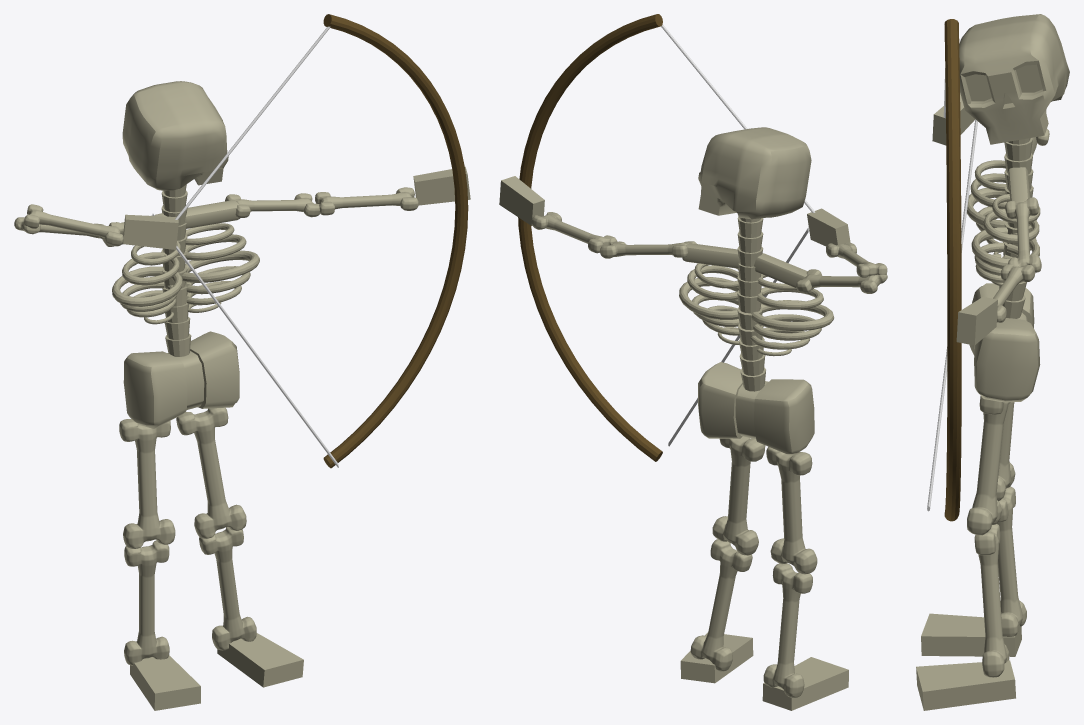
The model's file is SpinningSkelle2.fbx.
3 views of the same model, side by side, from view 1: azimuth 30°, elevation 25°; view 2: azimuth 150°, elevation 25°; view 3: azimuth 270°, elevation 25° (orthographic). The views are drawn at different scales.
Visible parts, largest first — view 1: Bones, Bow, Bowstring, BowString; view 2: Bones, Bow; view 3: Bones, Bow, Bowstring.
Part boxes in pixels (x1,y1,x2,y2): Bones: (14,81,470,710); Bow: (323,14,468,468); Bowstring: (152,214,338,467); BowString: (175,26,330,219); Bones: (499,127,887,710); Bow: (518,14,662,461); Bones: (916,14,1069,710); Bow: (944,19,961,521); Bowstring: (927,119,977,511).
Size of the model in its own units: 5.7 by 8.38 by 1.64.
